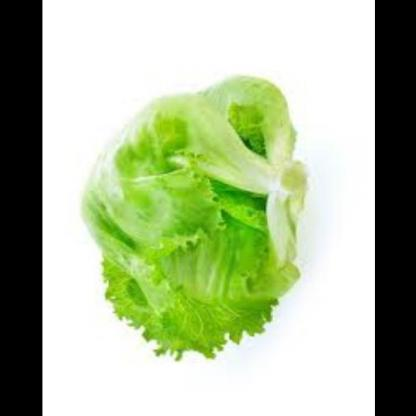salad: (76, 76, 310, 363)
